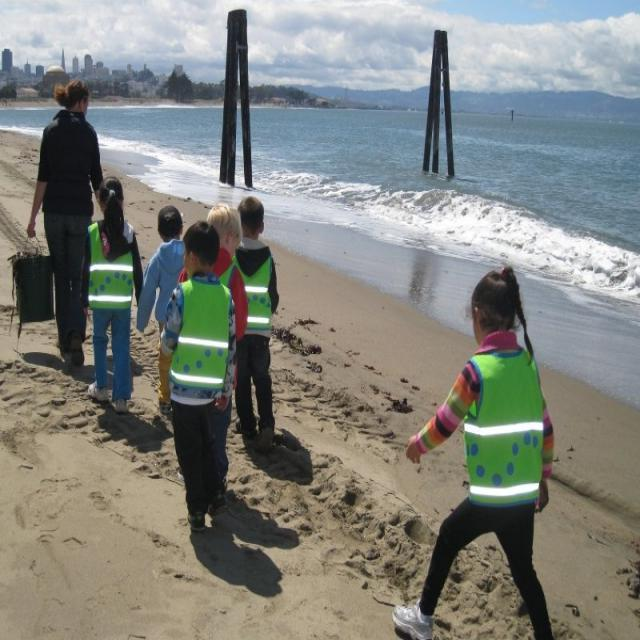safety_vest: (461, 349, 547, 494), (172, 274, 230, 394), (236, 243, 280, 331), (88, 220, 132, 306)
